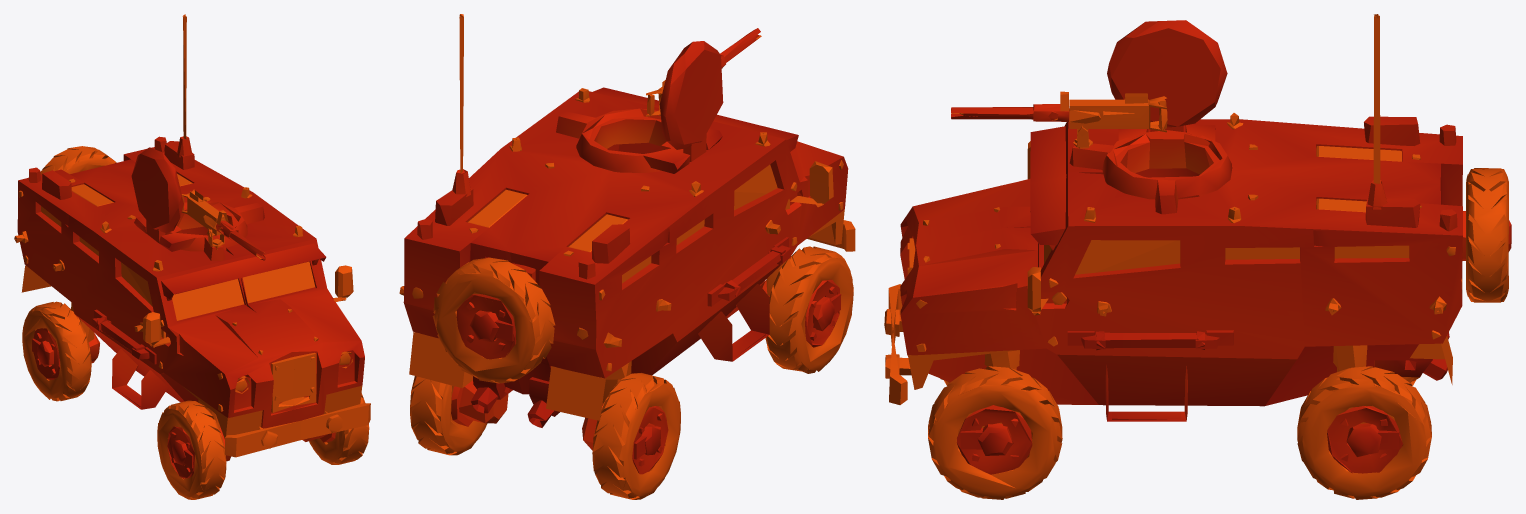
Rendered from wb-recon.fbx.
3 views of the same model, side by side, from view 1: azimuth 30°, elevation 25°; view 2: azimuth 150°, elevation 25°; view 3: azimuth 270°, elevation 25° (orthographic). The views are drawn at different scales.
Visible parts, largest first — view 1: mrap; view 2: mrap; view 3: mrap.
Part boxes in pixels (box(x1,y1,x2,y2)): mrap: box(14, 14, 370, 499); mrap: box(399, 14, 855, 499); mrap: box(884, 14, 1511, 499).
Bounding box in the file's own units: 0.3998 × 0.6338 × 0.7609.
